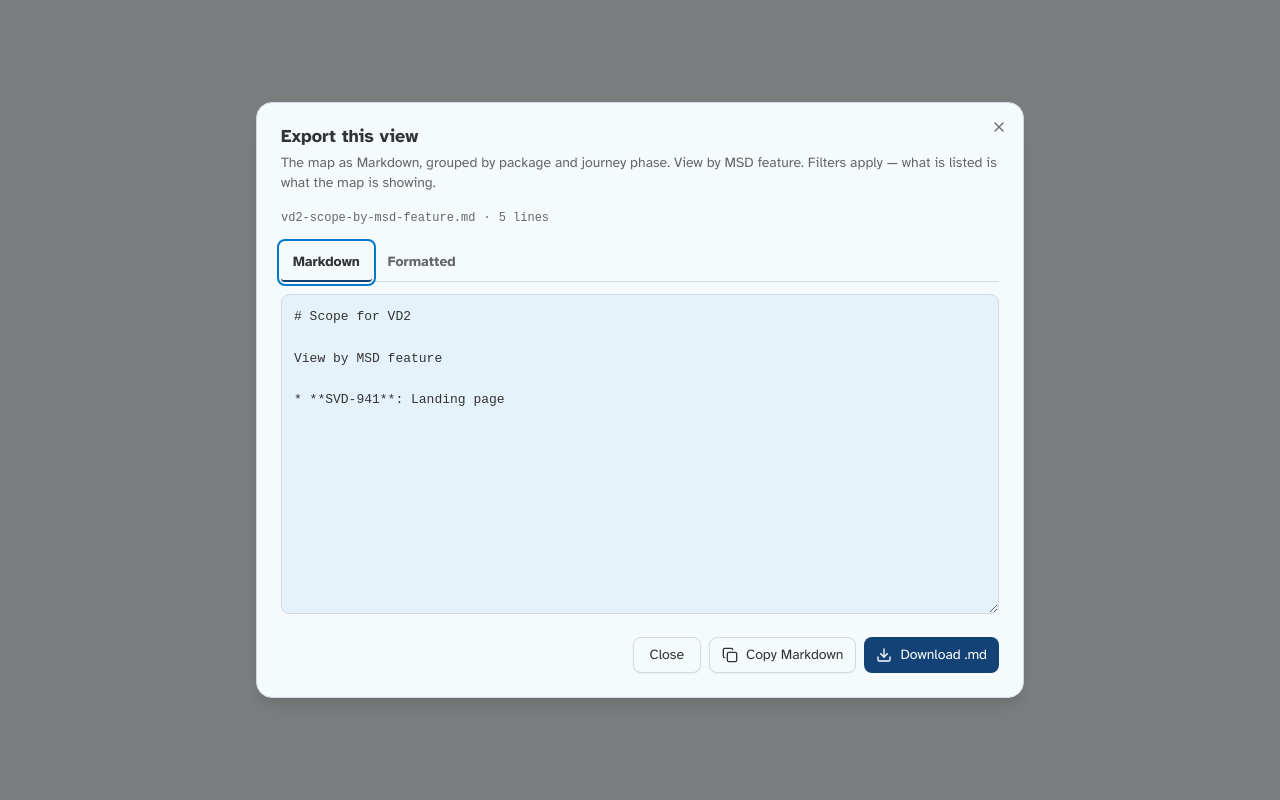
Test: ScopeExportDialog — formatted view › opens on the markdown and renders it on the Formatted tab
Click the tab "Formatted" at (422, 262), box [376,243,468,282]
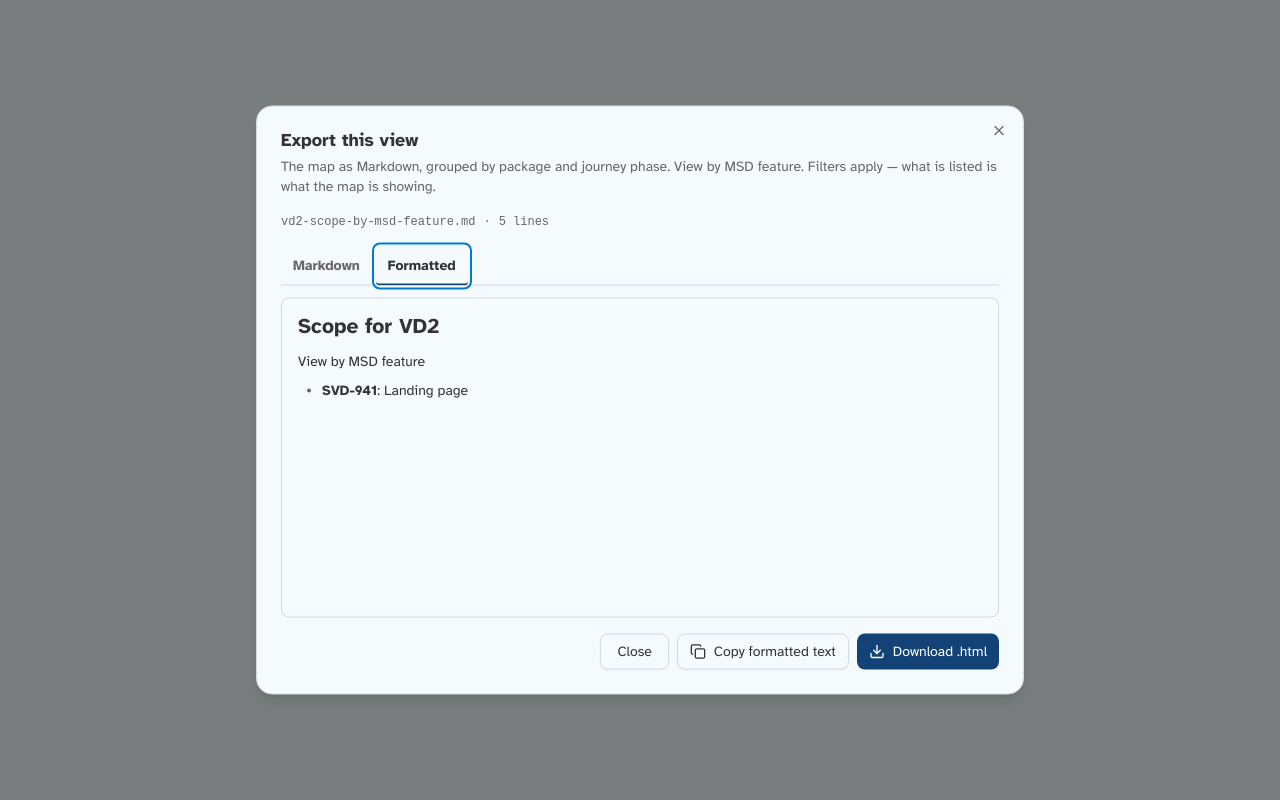
Expected: the element named "Formatted export" does not show "**", [281,298,999,618]
Result: the heading "Scope for VD2" is shown at [298,312,439,338]
Result: the text "SVD-941" is shown at [322,381,377,398]
